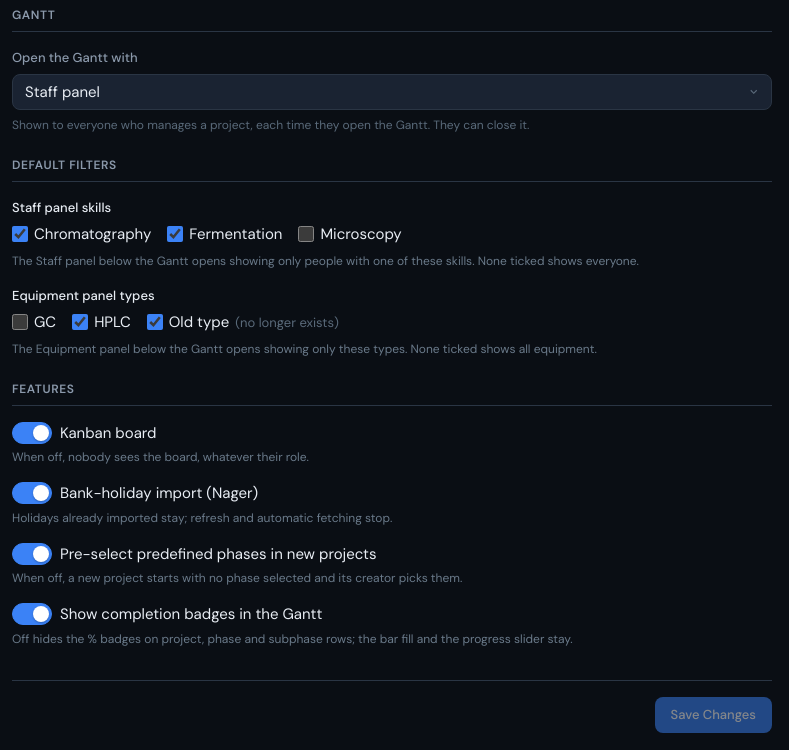
Test case: DefaultsPanel › treats the same set ticked in another order as unchanged
Expected: the dropdown labelled "Open the Gantt with" is shown, [12,74,772,110]
Click the checkbox labelled "Chromatography" at (20, 234), box [12,226,28,242]
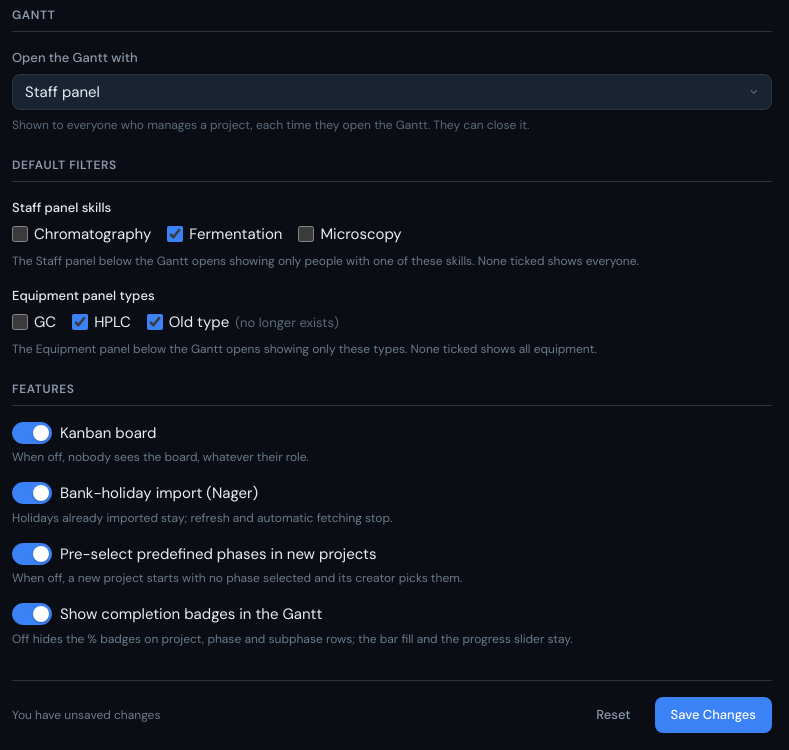
Click the checkbox labelled "Chromatography" at (20, 234), box [12,226,28,242]
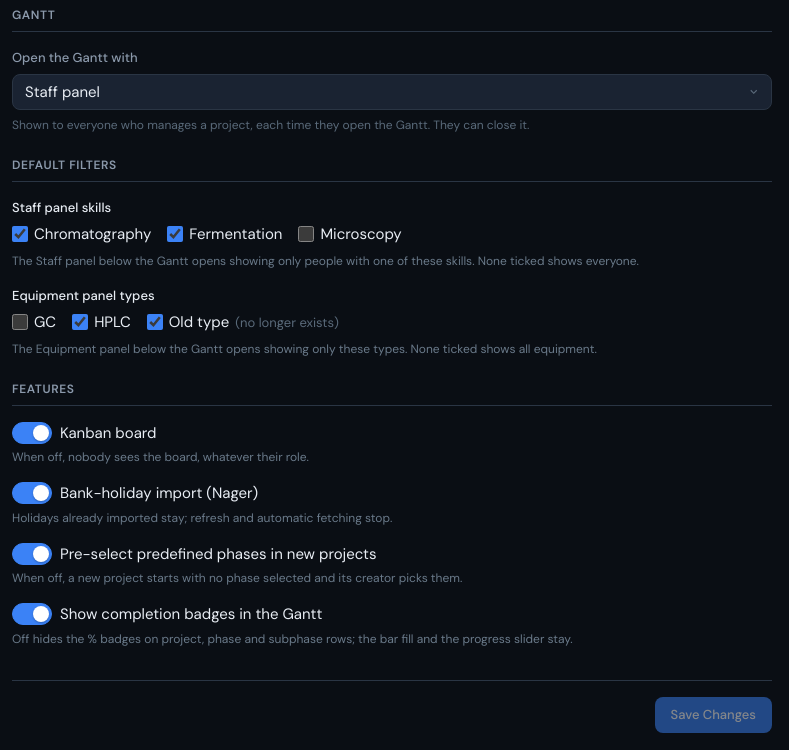
Expected: the button "Save Changes" is disabled, [655,696,772,732]
